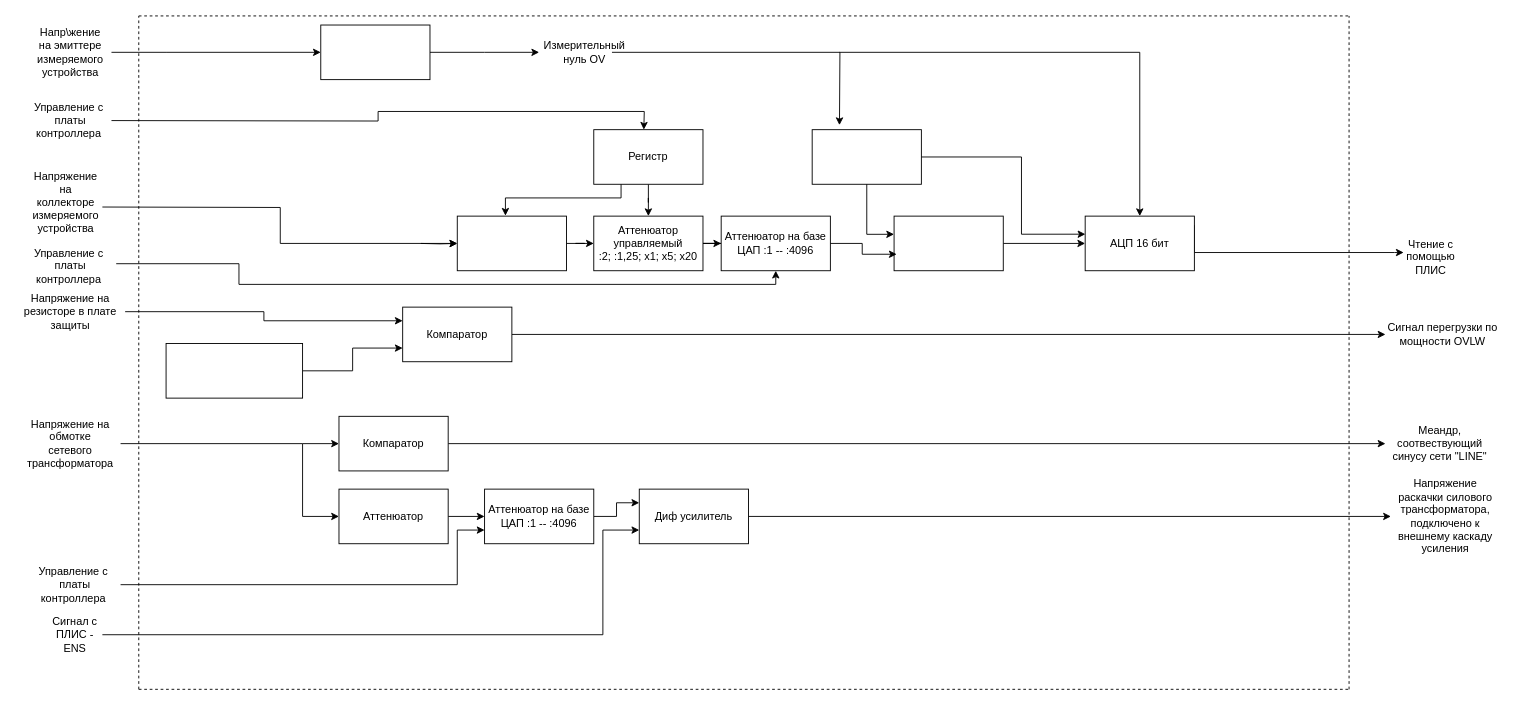
Image size: 1515x706. Some labels were removed from this diagram. Each missing label, with the box of its shape:
Аттенюатор управляемый :5; :250: (456, 215, 566, 271)
Генератор опорного напряжения: (811, 129, 921, 184)
Дифференциальный преобразователь: (893, 215, 1003, 271)
Повторитель: (320, 24, 430, 80)
Регулируемое опорное напряжение: (165, 343, 303, 398)
